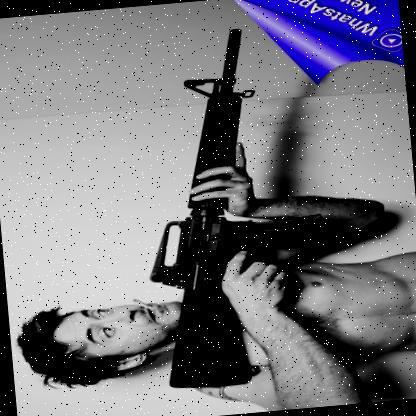rifle: (124, 19, 351, 394)
